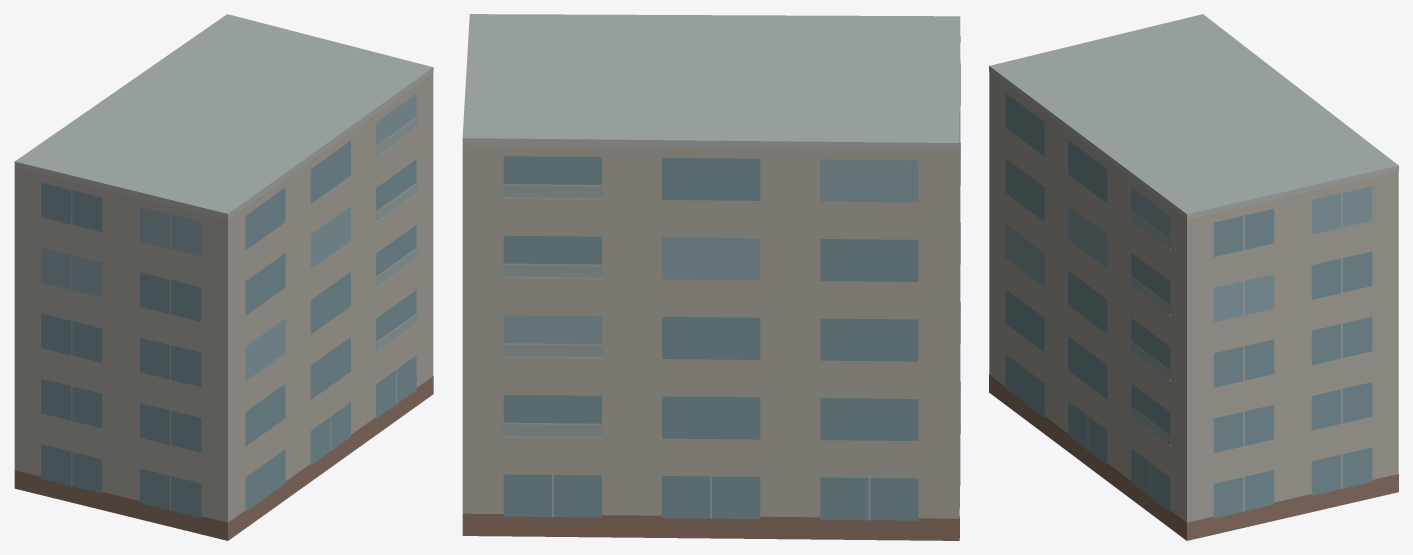
Rendered from survey-upis-32736233.glb.
3 views of the same model, side by side, from view 1: azimuth 30°, elevation 25°; view 2: azimuth 150°, elevation 25°; view 3: azimuth 270°, elevation 25° (orthographic). The views are drawn at different scales.
Parts seen in each view (by area): view 1: survey-upis-32736233.tmp; view 2: survey-upis-32736233.tmp; view 3: survey-upis-32736233.tmp.
Boxes of the visible parts, x1,y1,x2,y2 form: survey-upis-32736233.tmp: (14,14,433,540); survey-upis-32736233.tmp: (462,14,960,540); survey-upis-32736233.tmp: (989,14,1398,540).
Size of the model in its own units: 18.28 by 13.9 by 15.8.
